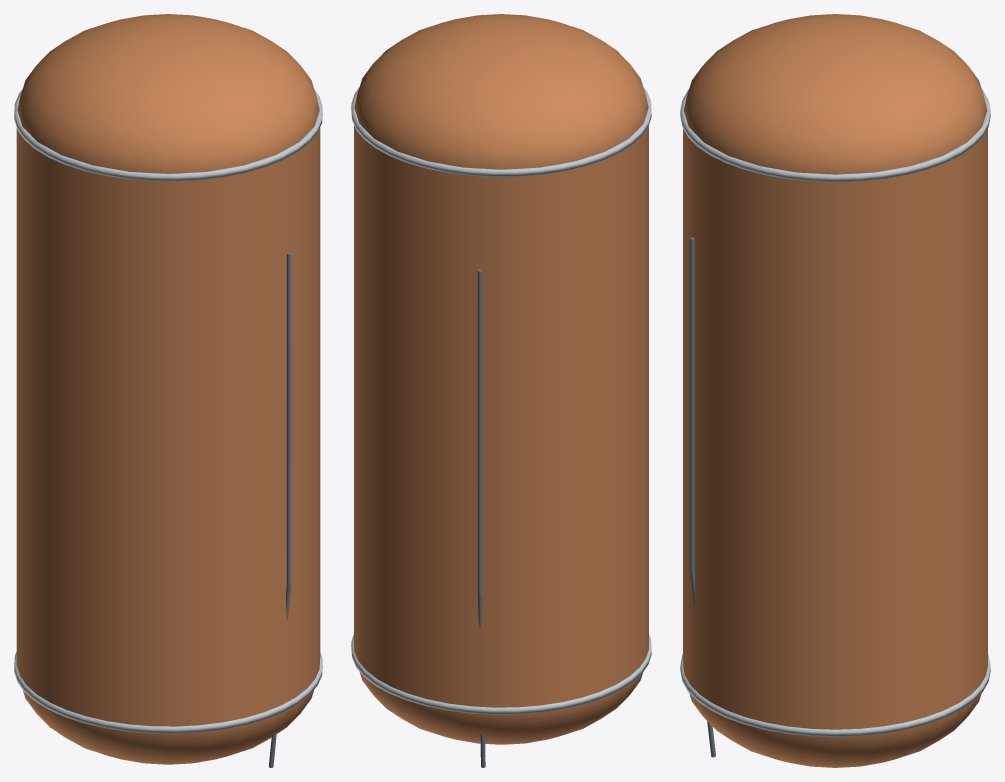
File: atlas_v_core_rp1_vessel.glb
3 views of the same model, side by side, from view 1: azimuth 30°, elevation 25°; view 2: azimuth 150°, elevation 25°; view 3: azimuth 270°, elevation 25° (orthographic). The views are drawn at different scales.
Visible parts, largest first — view 1: atlas_v_core_rp1_vessel.mesh_Cutaway_propellant, atlas_v_core_rp1_vessel.mesh_Satin_aluminum, atlas_v_core_rp1_vessel.mesh_Machined_steel; view 2: atlas_v_core_rp1_vessel.mesh_Cutaway_propellant, atlas_v_core_rp1_vessel.mesh_Satin_aluminum, atlas_v_core_rp1_vessel.mesh_Machined_steel; view 3: atlas_v_core_rp1_vessel.mesh_Cutaway_propellant, atlas_v_core_rp1_vessel.mesh_Satin_aluminum, atlas_v_core_rp1_vessel.mesh_Machined_steel.
Part boxes in pixels (x1,y1,x2,y2): atlas_v_core_rp1_vessel.mesh_Cutaway_propellant: [16, 14, 320, 764]; atlas_v_core_rp1_vessel.mesh_Satin_aluminum: [14, 89, 322, 733]; atlas_v_core_rp1_vessel.mesh_Machined_steel: [268, 252, 291, 767]; atlas_v_core_rp1_vessel.mesh_Cutaway_propellant: [354, 14, 648, 744]; atlas_v_core_rp1_vessel.mesh_Satin_aluminum: [351, 87, 651, 714]; atlas_v_core_rp1_vessel.mesh_Machined_steel: [477, 269, 485, 767]; atlas_v_core_rp1_vessel.mesh_Cutaway_propellant: [683, 14, 987, 767]; atlas_v_core_rp1_vessel.mesh_Satin_aluminum: [680, 89, 990, 736]; atlas_v_core_rp1_vessel.mesh_Machined_steel: [690, 237, 715, 757].
Bounding box in the file's own units: 3.6 × 9.05 × 3.6.
